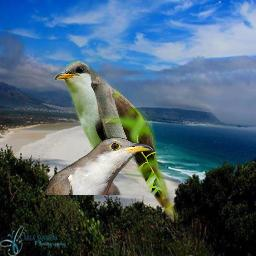Cuckoo: (50, 61, 185, 223), (44, 137, 153, 195)
